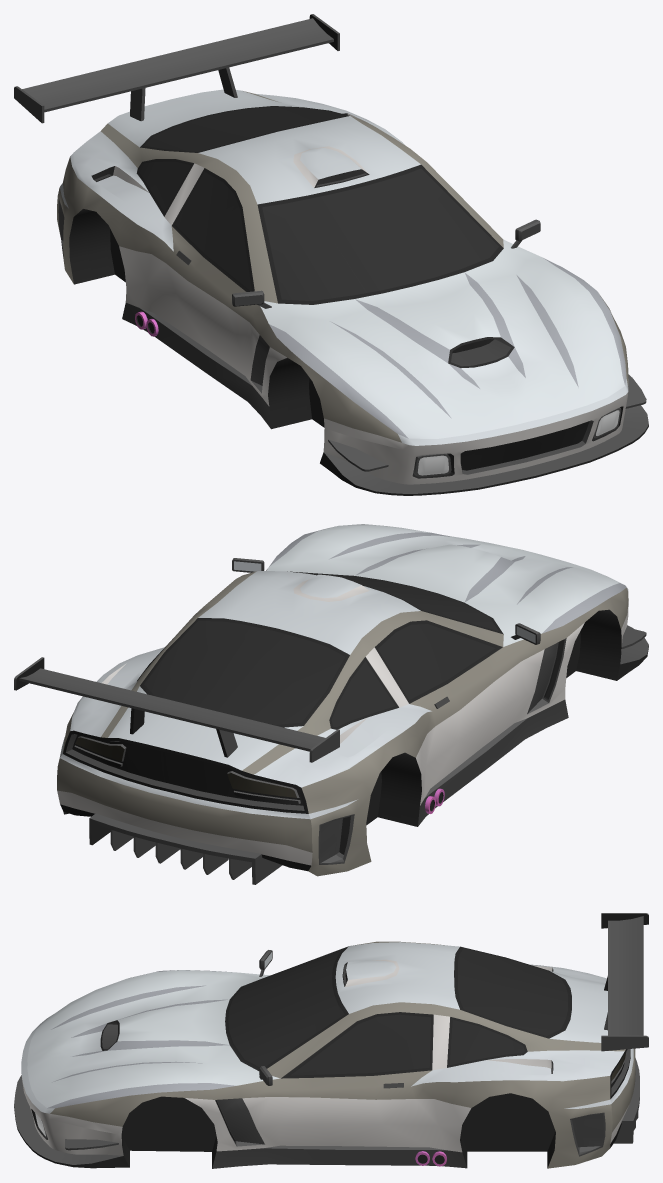
The model's file is Car_16.fbx.
The picture shows the model from 3 angles, top to bottom: view 1: azimuth 30°, elevation 25°; view 2: azimuth 150°, elevation 25°; view 3: azimuth 270°, elevation 25°; orthographic projection. The views are drawn at different scales.
Parts seen in each view (by area): view 1: Car_16; view 2: Car_16; view 3: Car_16.
Boxes of the visible parts, <box> form: Car_16: <box>14,14,648,495</box>; Car_16: <box>14,524,648,884</box>; Car_16: <box>14,913,648,1168</box>.
Bounding box in the file's own units: 180 × 94.52 × 379.
